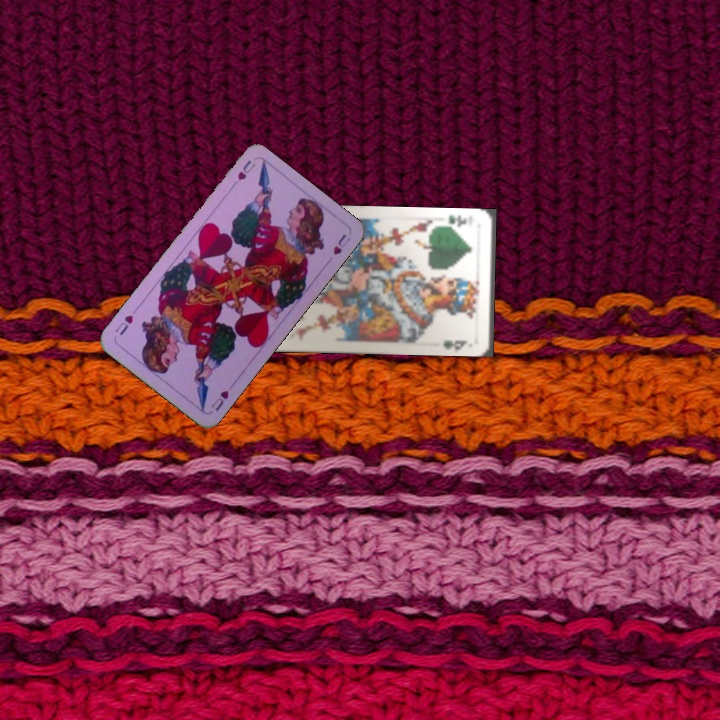GK: (439, 211, 469, 230)
HU: (233, 156, 258, 183), (207, 386, 231, 414)
